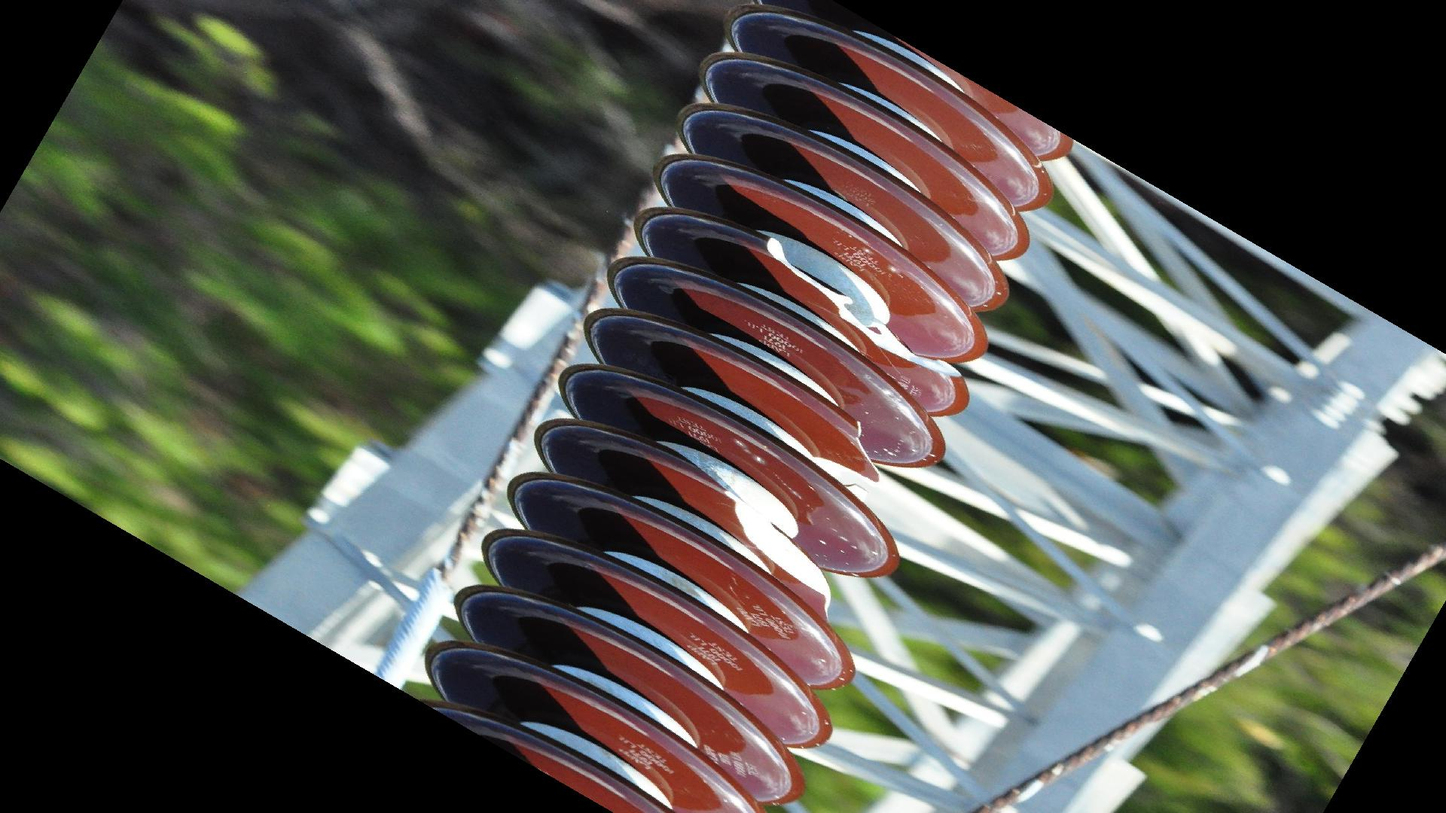insulator: (411, 5, 1084, 813)
insulator_breakage: (750, 224, 976, 395), (712, 483, 842, 623)
